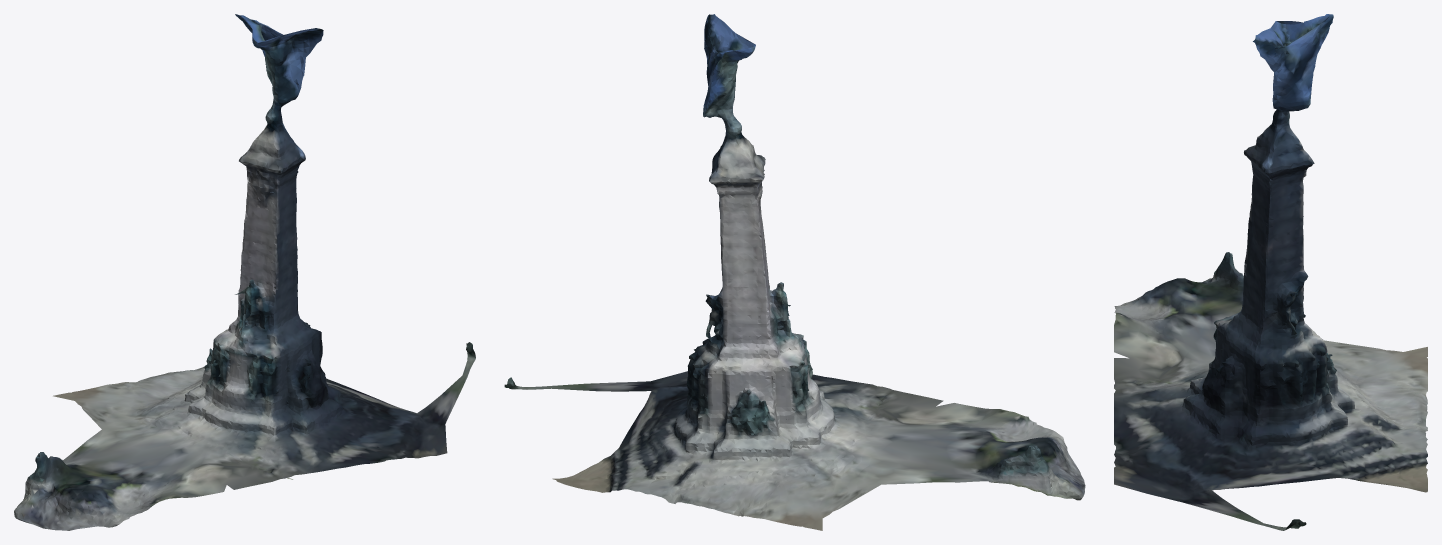
The model's file is 3DModel-main.obj.
The picture shows the model from 3 angles, left to right: view 1: azimuth 30°, elevation 25°; view 2: azimuth 150°, elevation 25°; view 3: azimuth 270°, elevation 25°; orthographic projection. The views are drawn at different scales.
Bounding box in the file's own units: 1.21 × 0.9271 × 0.6236.
